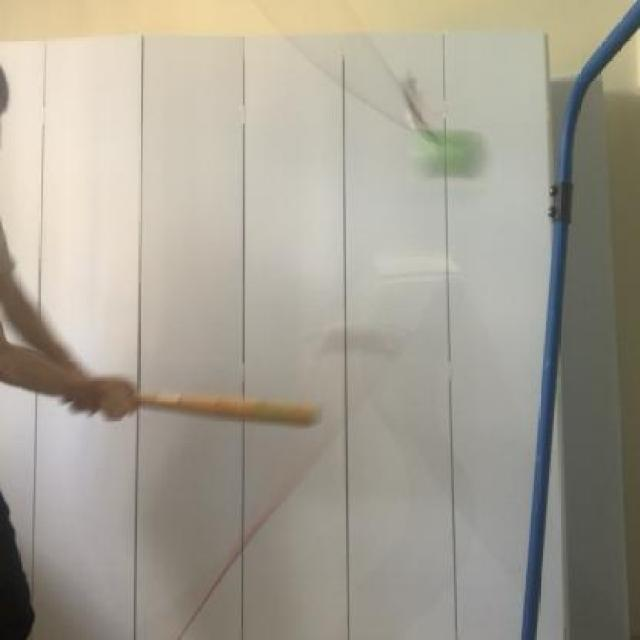baseball: (402, 107, 483, 184)
